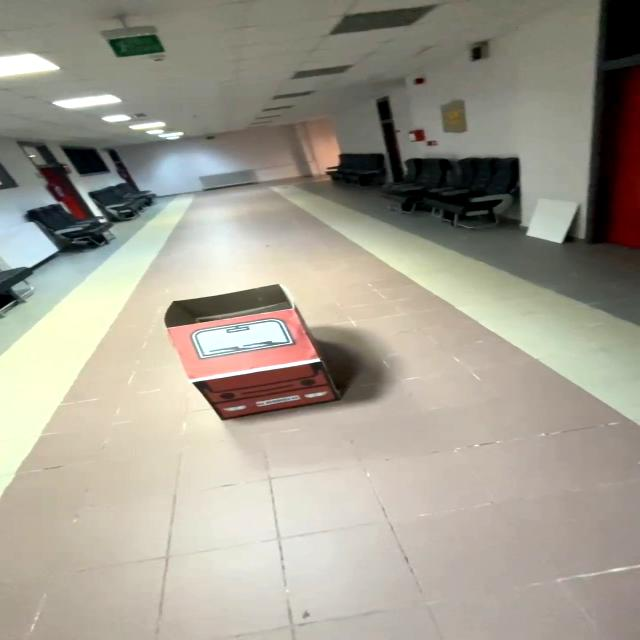red_car: (151, 271, 360, 429)
